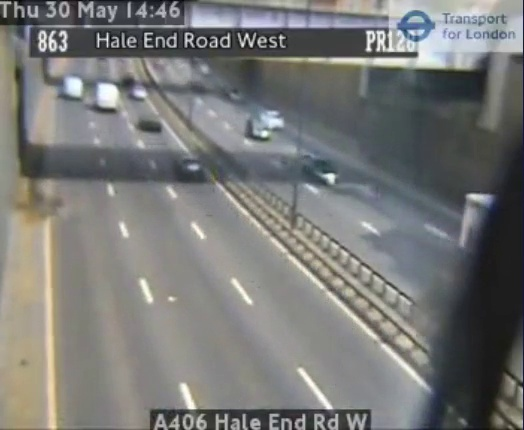van: (95, 83, 118, 109)
